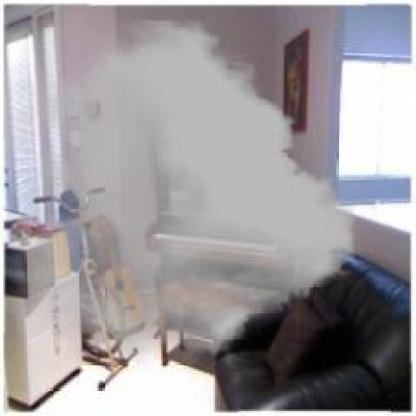Smoke: (6, 21, 356, 360)
